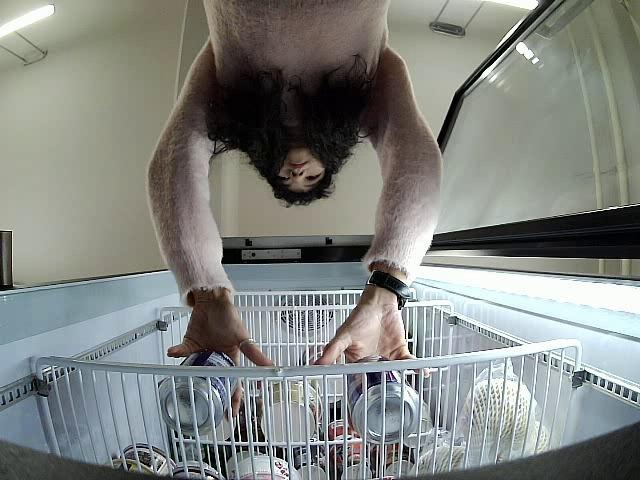14_welchsGrape: (342, 354, 419, 445), (160, 350, 238, 433)
